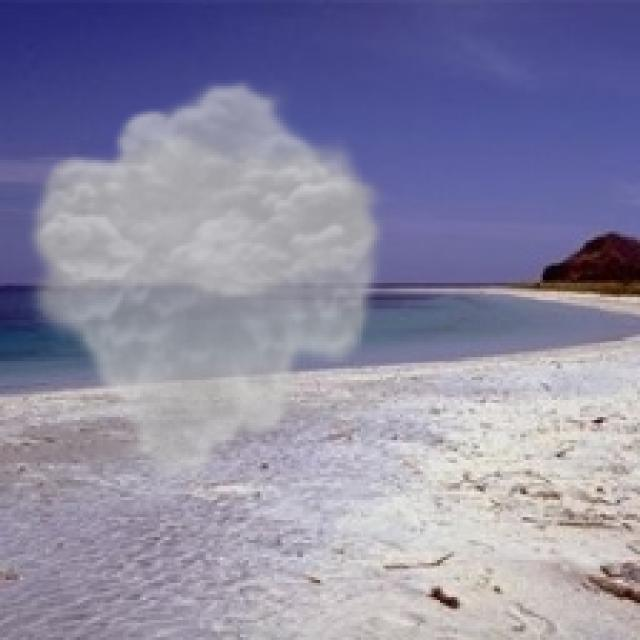smoke: (20, 77, 391, 489)
